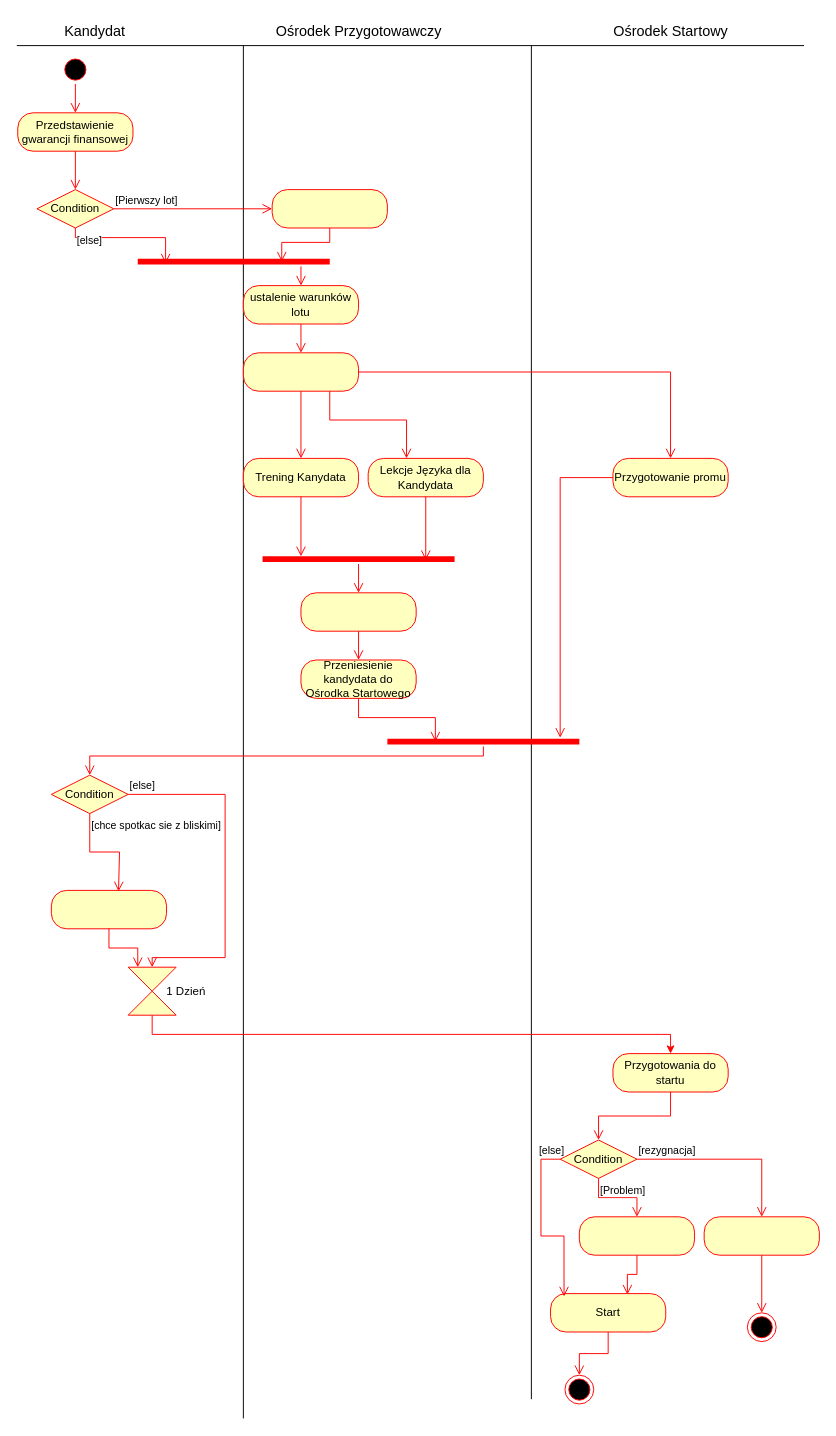
Some shapes in this 836 by 1436 pixel diagram are drawn without their labels. Each missing label, with the centre of its shape:
Anuluj lot: (x=761, y=1235)
Poddanie kandydata badaniom lekarskim: (x=329, y=208)
Podpisanie umowy: (x=300, y=371)
Rozwiązanie problemu: (x=636, y=1235)
Spotkanie z bliskimi: (x=108, y=909)
Szkolenie BHP: (x=358, y=611)
